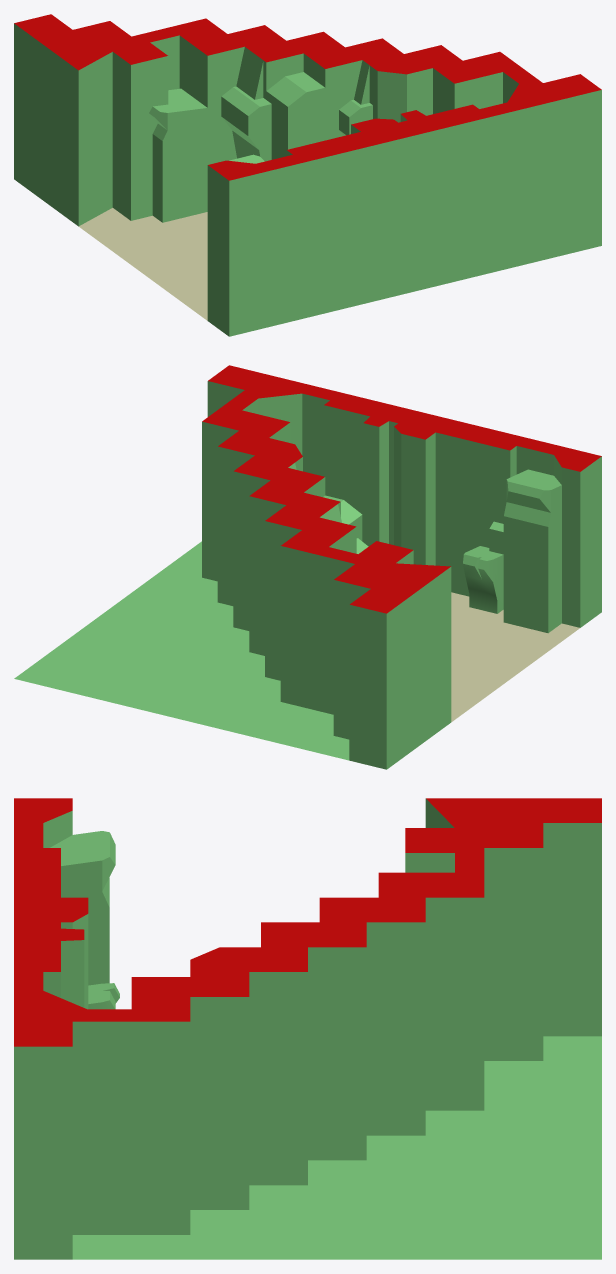
File: x_oo_ground_34_1_rmstrd.fbx
3 renders of one model, top to bottom at view 1: azimuth 30°, elevation 25°; view 2: azimuth 150°, elevation 25°; view 3: azimuth 270°, elevation 25°, orthographic. The views are drawn at different scales.
Visible parts, largest first — view 1: x_oo_ground_34_1_rmstrd1; view 2: x_oo_ground_34_1_rmstrd1; view 3: x_oo_ground_34_1_rmstrd1.
Boxes of the visible parts, left/top/right/bottom form: x_oo_ground_34_1_rmstrd1: left=14, top=14, right=601, bottom=336; x_oo_ground_34_1_rmstrd1: left=14, top=365, right=601, bottom=769; x_oo_ground_34_1_rmstrd1: left=14, top=798, right=601, bottom=1259.
Bounding box in the file's own units: 10 × 4 × 10.
